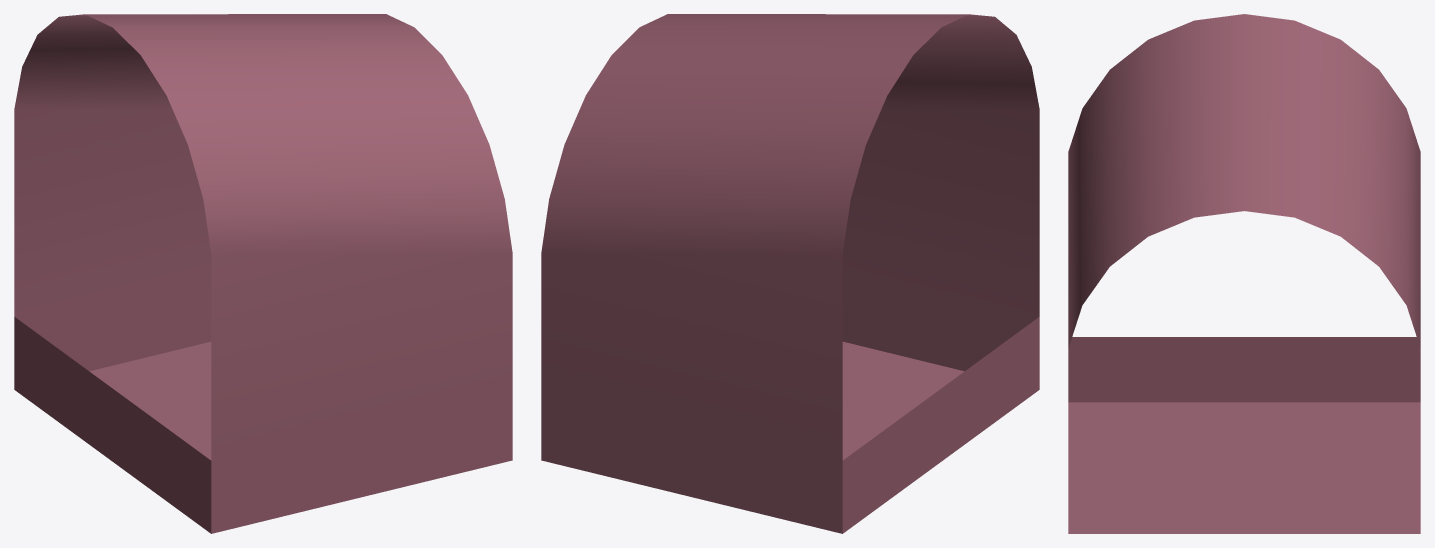
File: mesh_TileTunelSalto.fbx
3 renders of one model, left to right at view 1: azimuth 30°, elevation 25°; view 2: azimuth 150°, elevation 25°; view 3: azimuth 270°, elevation 25°, orthographic. The views are drawn at different scales.
Parts seen in each view (by area): view 1: TileTunelSalto; view 2: TileTunelSalto; view 3: TileTunelSalto.
Boxes of the visible parts, x1,y1,x2,y2 form: TileTunelSalto: [14, 14, 512, 533]; TileTunelSalto: [541, 14, 1039, 533]; TileTunelSalto: [1068, 14, 1420, 533].
Size of the model in its own units: 1382 by 1903 by 1566.
